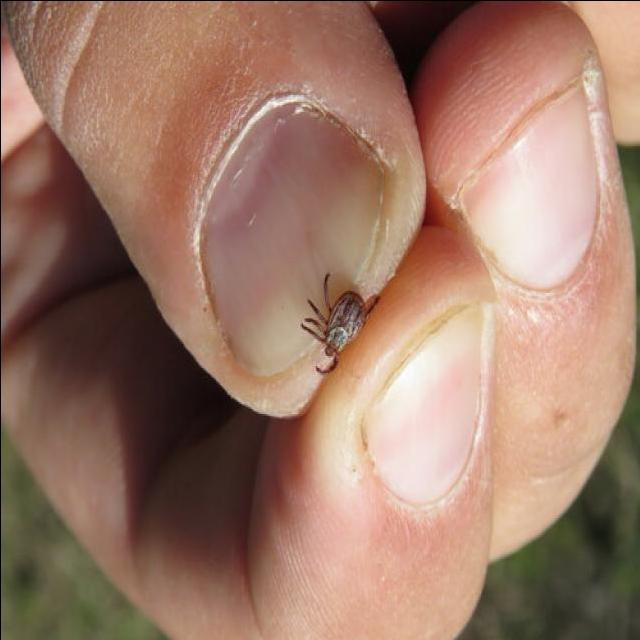Dermacentor Reticulatus-F: (300, 271, 378, 374)
